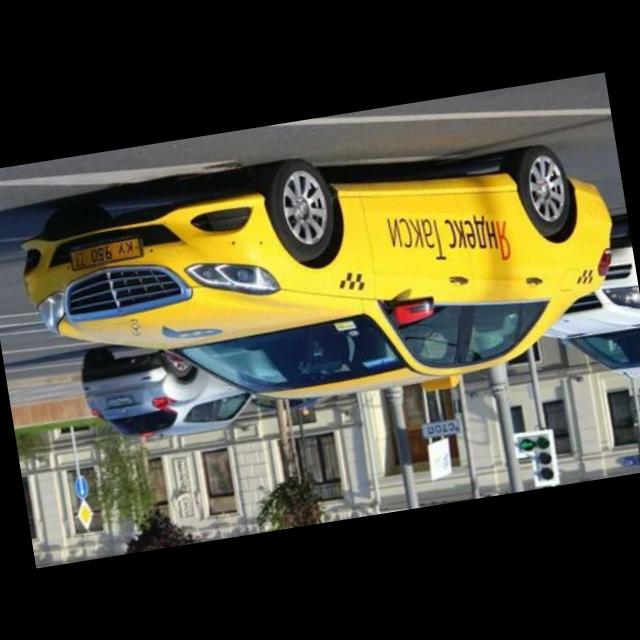taxi: (13, 113, 636, 454)
